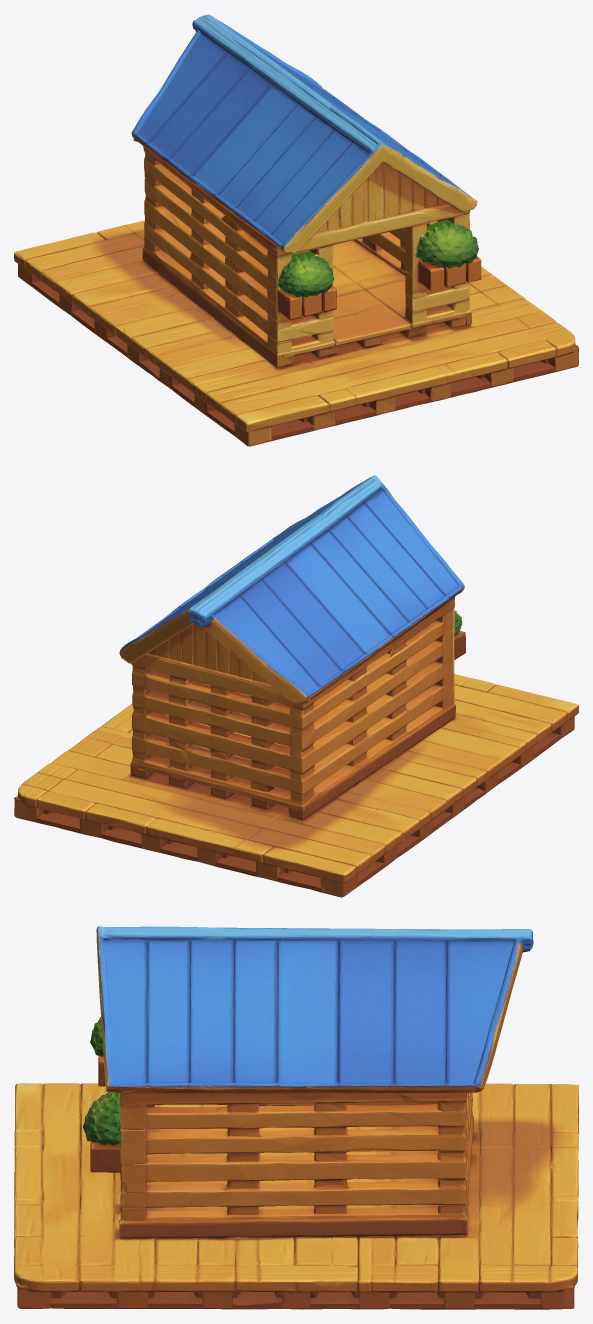
Rendered from DOM_budka_2__base.glb.
3 views of the same model, one above another, from view 1: azimuth 30°, elevation 25°; view 2: azimuth 150°, elevation 25°; view 3: azimuth 270°, elevation 25° (orthographic). The views are drawn at different scales.
Parts seen in each view (by area): view 1: tripo_node_d182d2a8-16e3-42d6-94c3-8481232c50ac; view 2: tripo_node_d182d2a8-16e3-42d6-94c3-8481232c50ac; view 3: tripo_node_d182d2a8-16e3-42d6-94c3-8481232c50ac.
Boxes of the visible parts, bbox=[...] form: tripo_node_d182d2a8-16e3-42d6-94c3-8481232c50ac: bbox=[14, 14, 578, 446]; tripo_node_d182d2a8-16e3-42d6-94c3-8481232c50ac: bbox=[14, 475, 578, 897]; tripo_node_d182d2a8-16e3-42d6-94c3-8481232c50ac: bbox=[14, 926, 578, 1309].
Bounding box in the file's own units: 0.8102 × 0.5467 × 0.9732.
Materials: 1 (1 with a texture image).
